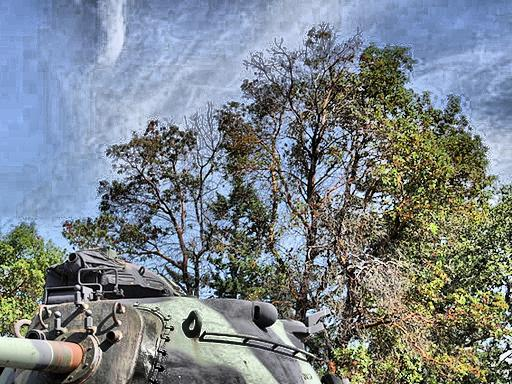tanks: (1, 249, 341, 384)
